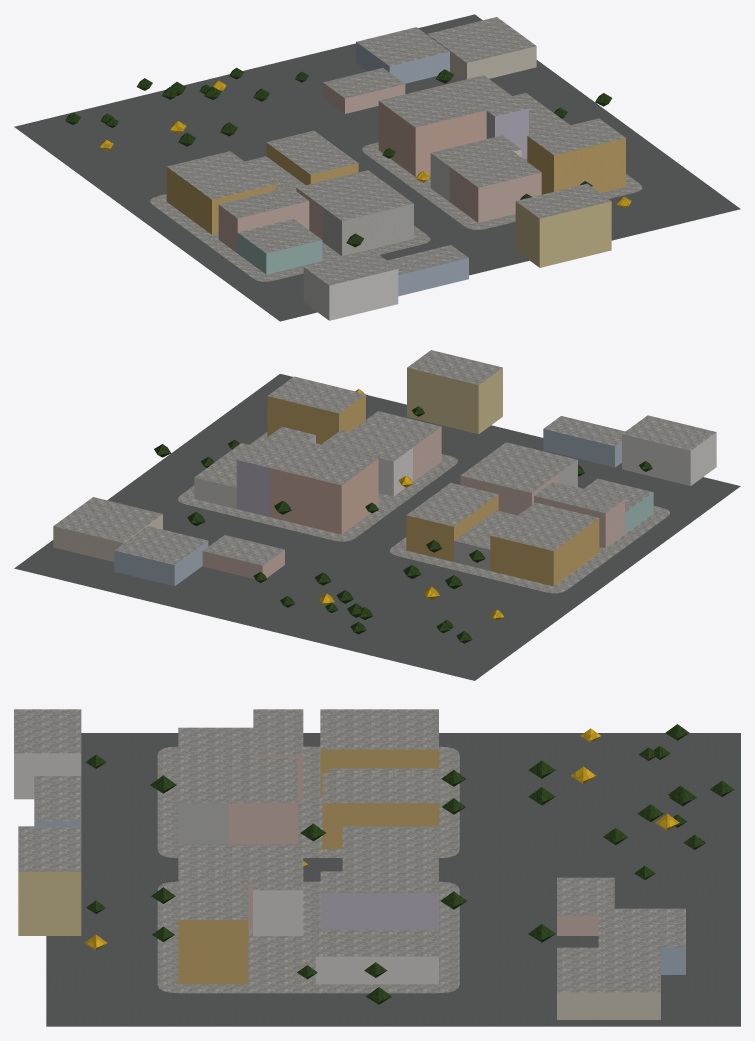
Rendered from cidade_S03_06_lod.gltf.
The picture shows the model from 3 angles, top to bottom: view 1: azimuth 30°, elevation 25°; view 2: azimuth 150°, elevation 25°; view 3: azimuth 270°, elevation 25°; orthographic projection. The views are drawn at different scales.
Visible parts, largest first — view 1: S03_06_Edificios_LOD1, S03_06_Chao_LOD2, S03_06_Vegetacao_LOD2; view 2: S03_06_Edificios_LOD1, S03_06_Chao_LOD2, S03_06_Vegetacao_LOD2; view 3: S03_06_Chao_LOD2, S03_06_Edificios_LOD1, S03_06_Vegetacao_LOD2.
Part boxes in pixels (box(x1,y1,x2,y2)): S03_06_Edificios_LOD1: box(166, 17, 625, 320); S03_06_Chao_LOD2: box(14, 14, 740, 321); S03_06_Vegetacao_LOD2: box(65, 67, 631, 247); S03_06_Edificios_LOD1: box(53, 350, 716, 586); S03_06_Chao_LOD2: box(14, 374, 740, 680); S03_06_Vegetacao_LOD2: box(154, 389, 652, 643); S03_06_Chao_LOD2: box(46, 733, 740, 1026); S03_06_Edificios_LOD1: box(14, 709, 685, 1019); S03_06_Vegetacao_LOD2: box(84, 724, 734, 1004).
Bounding box in the file's own units: 100 × 10.37 × 105.
Materials: 14 (14 with a texture image).
